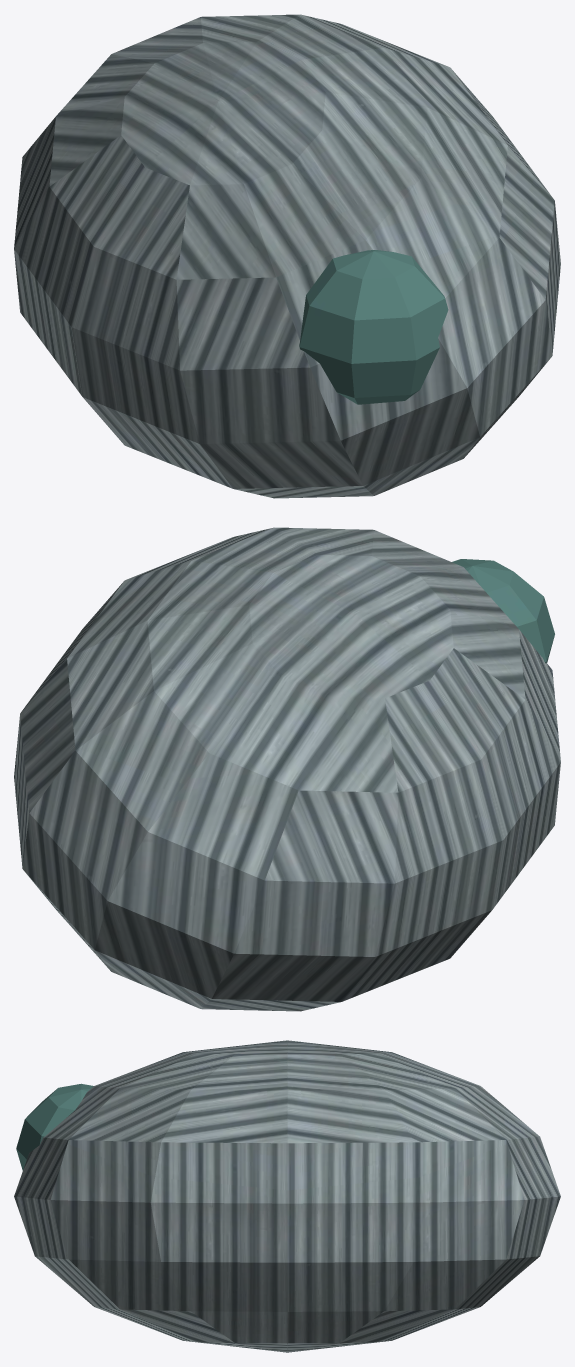
File: crossing_pod_01.glb
3 renders of one model, top to bottom at view 1: azimuth 30°, elevation 25°; view 2: azimuth 150°, elevation 25°; view 3: azimuth 270°, elevation 25°, orthographic. The views are drawn at different scales.
Parts seen in each view (by area): view 1: crossing_pod_01; view 2: crossing_pod_01; view 3: crossing_pod_01.
Boxes of the visible parts, box(x1,y1,x2,y2) form: crossing_pod_01: box(14, 14, 560, 498); crossing_pod_01: box(14, 527, 560, 1011); crossing_pod_01: box(14, 1040, 560, 1352).
Bounding box in the file's own units: 1.75 × 1.49 × 2.52.
Materials: 2 (2 with a texture image).
